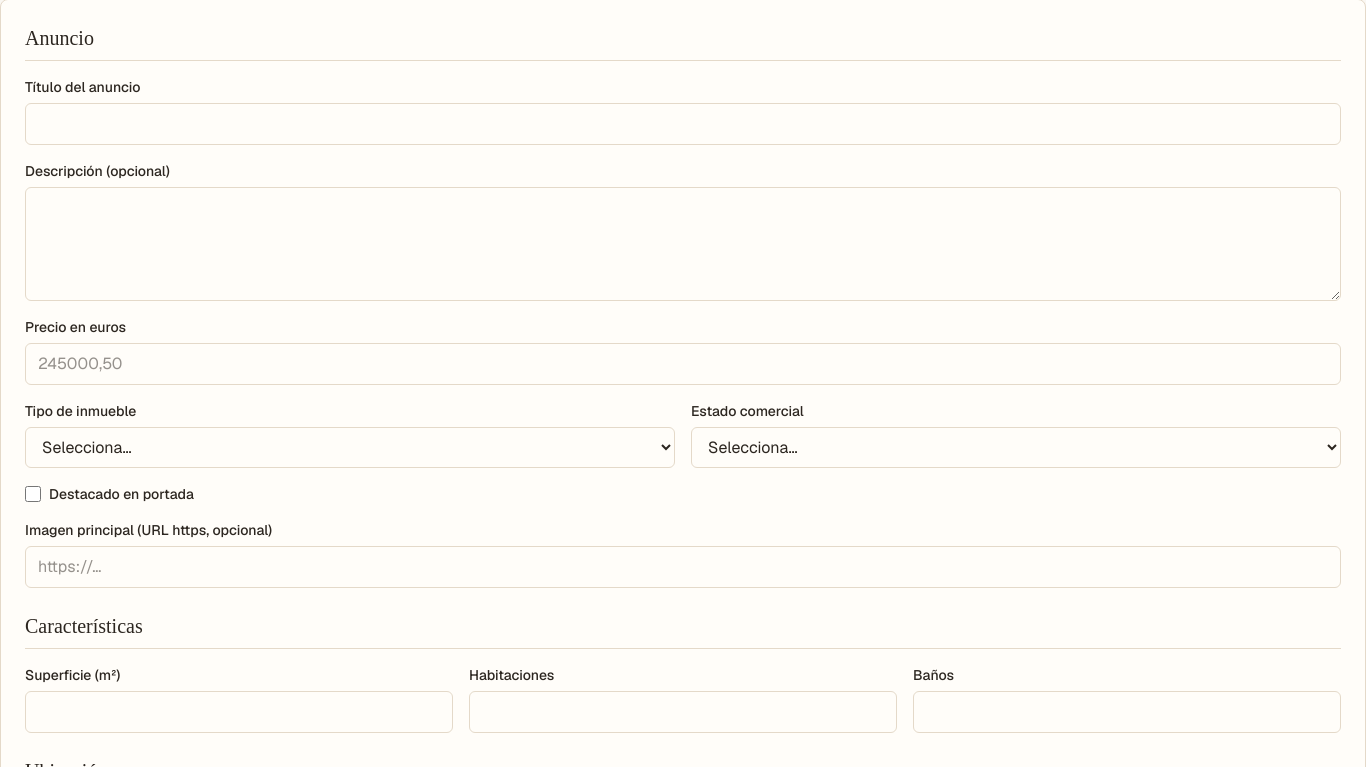
Test: FormularioInmueble — alta (POST) › la_validacion_client_bloquea_el_envio_y_pinta_los_errores_de_campo
In the field labelled "Título del anuncio": (683, 124) top-left (25, 103), bottom-right (1341, 145), type "X"
(page scrolled)
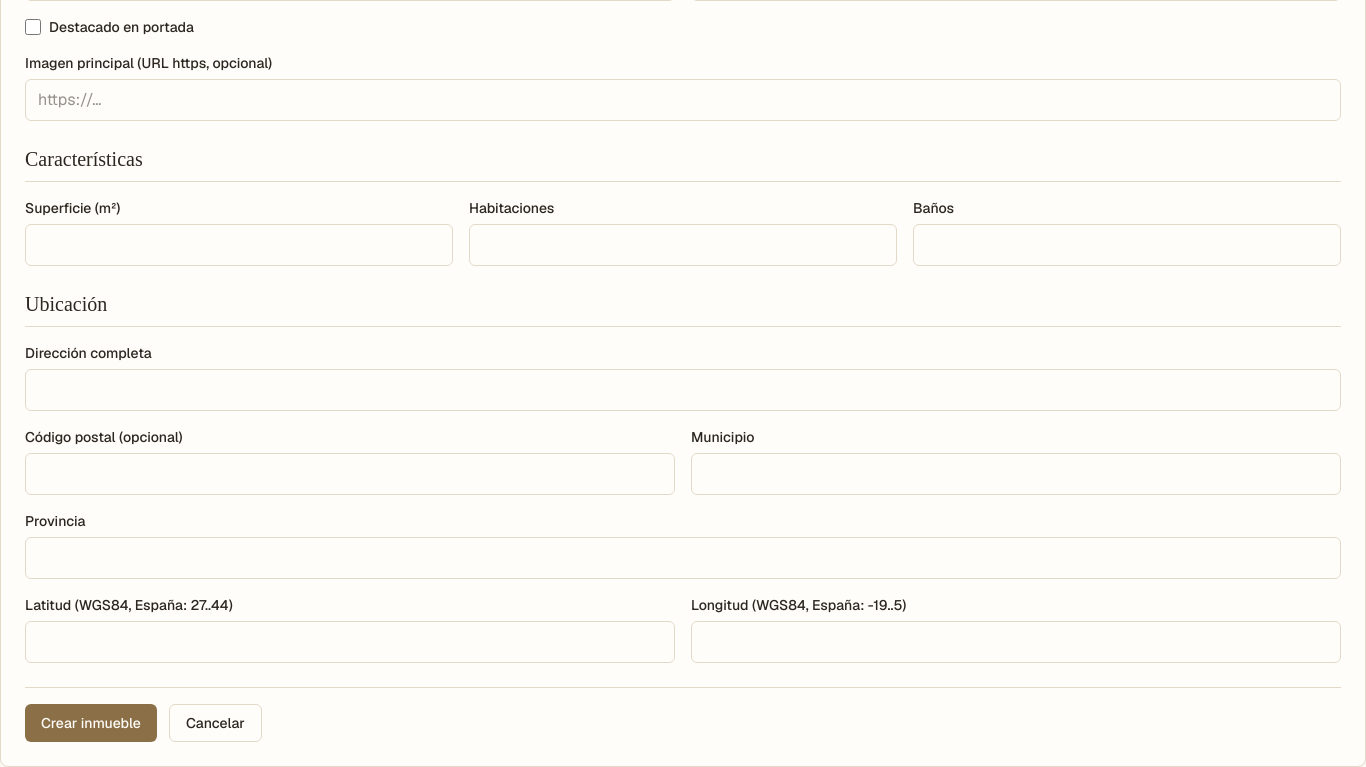
Click the button "Crear inmueble": (91, 723) top-left (25, 704), bottom-right (157, 742)
(page scrolled)
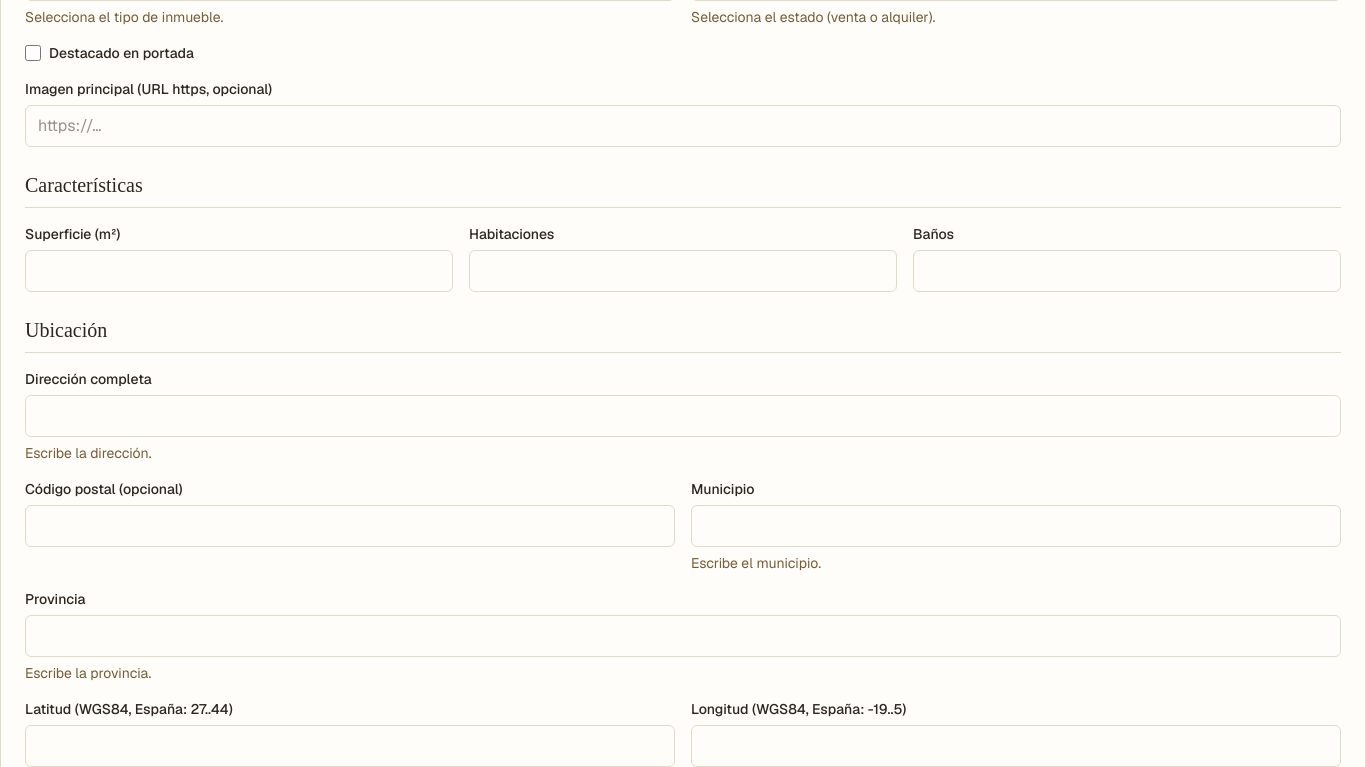
Now the text "Selecciona el tipo de inmueble." is shown, box top-left (25, 8), bottom-right (223, 26)
Now the text "Escribe la dirección." is shown, box top-left (25, 444), bottom-right (152, 462)
